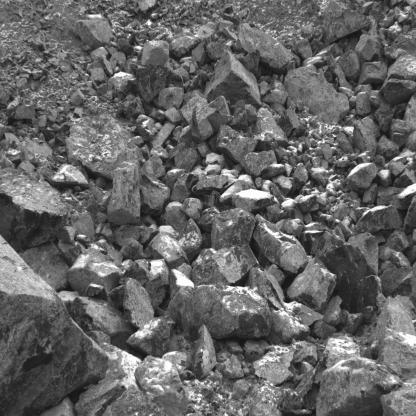stone: (0, 229, 109, 416), (0, 161, 70, 251), (164, 287, 272, 341), (317, 232, 383, 317), (319, 359, 401, 416), (284, 66, 349, 125), (376, 294, 416, 385), (253, 214, 308, 279), (236, 23, 300, 75), (202, 51, 259, 105), (286, 256, 338, 315), (107, 146, 145, 225), (192, 245, 258, 286), (69, 249, 123, 297), (322, 0, 372, 45), (124, 316, 174, 356), (191, 96, 233, 141), (211, 209, 256, 250), (123, 277, 154, 328), (216, 125, 257, 163), (149, 232, 190, 270), (254, 106, 288, 151), (352, 205, 401, 235), (189, 325, 217, 376), (380, 260, 416, 299), (74, 14, 113, 49), (378, 381, 416, 416), (353, 116, 381, 163), (138, 63, 170, 103), (140, 175, 170, 215), (231, 189, 280, 213), (171, 170, 206, 203), (177, 219, 202, 262), (49, 163, 89, 189), (220, 174, 255, 203), (242, 150, 278, 178), (113, 225, 159, 246), (346, 163, 379, 192), (354, 34, 382, 66), (381, 80, 416, 105), (169, 30, 198, 60), (119, 260, 151, 285), (193, 173, 230, 194), (165, 201, 189, 233), (141, 40, 169, 67), (168, 268, 193, 298), (149, 122, 175, 150), (337, 52, 361, 82), (141, 154, 168, 180), (373, 106, 394, 138), (374, 136, 398, 162), (359, 61, 386, 84), (375, 185, 402, 208), (135, 115, 159, 140), (120, 237, 146, 260), (175, 147, 201, 170), (156, 88, 184, 109), (207, 37, 234, 58), (275, 219, 303, 239), (384, 231, 410, 252), (279, 109, 299, 135), (230, 100, 248, 128), (134, 0, 161, 18), (355, 90, 372, 118), (182, 199, 203, 221), (293, 36, 312, 60), (298, 194, 320, 214), (125, 97, 144, 119), (309, 164, 326, 186), (293, 164, 308, 186), (363, 182, 377, 203), (150, 146, 169, 161), (394, 102, 407, 119)
